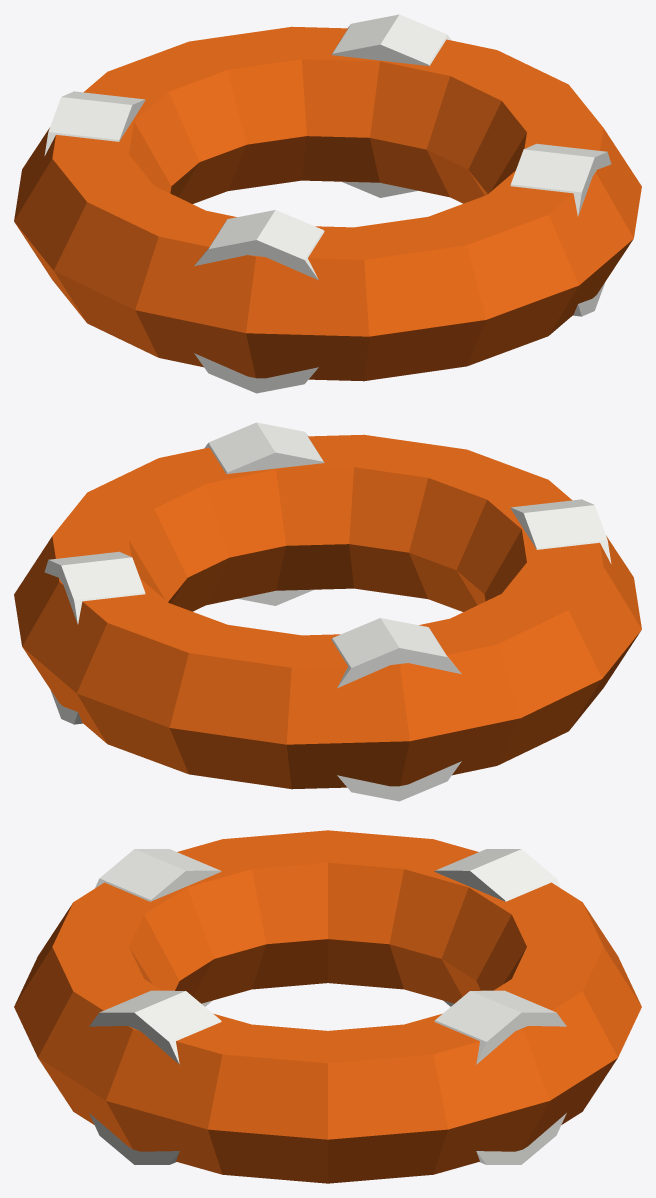
The model's file is Item_Lifebuoy.glb.
3 views of the same model, one above another, from view 1: azimuth 30°, elevation 25°; view 2: azimuth 150°, elevation 25°; view 3: azimuth 270°, elevation 25° (orthographic).
Visible parts, largest first — view 1: Lifebuoy_Ring, Lifebuoy_Band2, Lifebuoy_Band0, Lifebuoy_Band3, Lifebuoy_Band1; view 2: Lifebuoy_Ring, Lifebuoy_Band1, Lifebuoy_Band3, Lifebuoy_Band0, Lifebuoy_Band2; view 3: Lifebuoy_Ring, Lifebuoy_Band0, Lifebuoy_Band3, Lifebuoy_Band1, Lifebuoy_Band2.
Boxes of the visible parts, x1=… form: Lifebuoy_Ring: x1=14, y1=26, x2=641, y2=381; Lifebuoy_Band2: x1=194, y1=210, x2=324, y2=393; Lifebuoy_Band0: x1=331, y1=14, x2=451, y2=197; Lifebuoy_Band3: x1=510, y1=143, x2=611, y2=316; Lifebuoy_Band1: x1=44, y1=91, x2=145, y2=155; Lifebuoy_Ring: x1=14, y1=434, x2=641, y2=789; Lifebuoy_Band1: x1=331, y1=618, x2=461, y2=801; Lifebuoy_Band3: x1=204, y1=422, x2=324, y2=605; Lifebuoy_Band0: x1=44, y1=551, x2=145, y2=724; Lifebuoy_Band2: x1=510, y1=499, x2=611, y2=563; Lifebuoy_Ring: x1=14, y1=830, x2=641, y2=1183; Lifebuoy_Band0: x1=434, y1=990, x2=566, y2=1164; Lifebuoy_Band3: x1=89, y1=990, x2=221, y2=1164; Lifebuoy_Band1: x1=434, y1=849, x2=560, y2=1006; Lifebuoy_Band2: x1=95, y1=849, x2=221, y2=1006.
Bounding box in the file's own units: 0.344 × 0.092 × 0.344.
